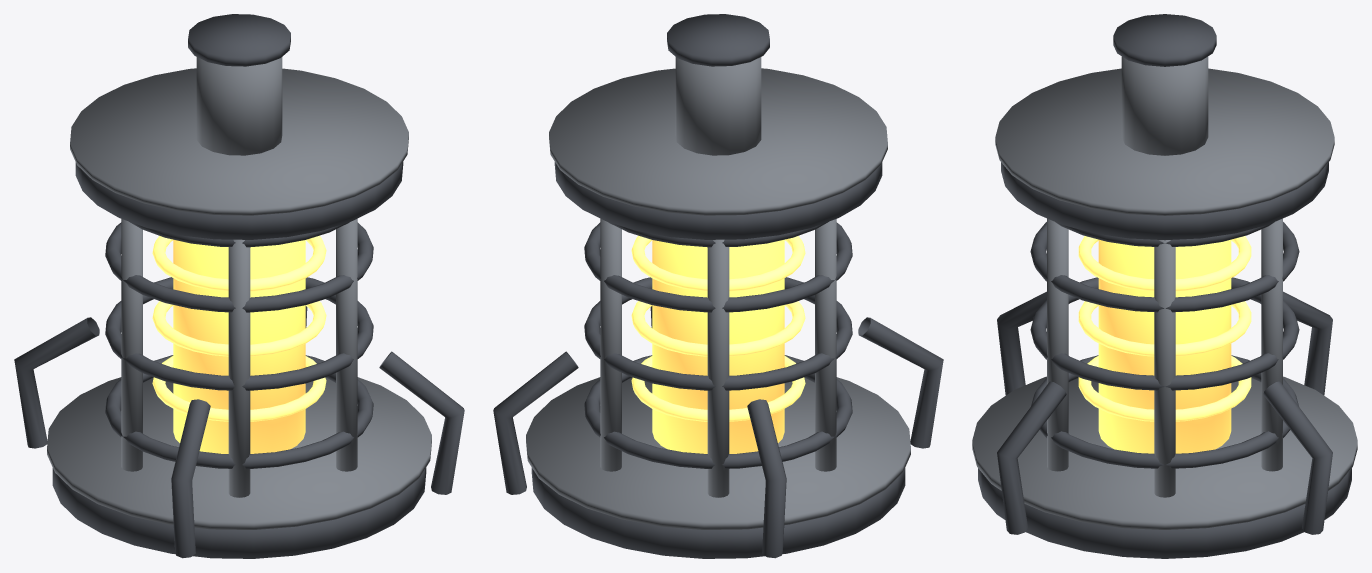
Rendered from reactor.glb.
The picture shows the model from 3 angles, left to right: view 1: azimuth 30°, elevation 25°; view 2: azimuth 150°, elevation 25°; view 3: azimuth 270°, elevation 25°; orthographic projection.
Visible parts, largest first — view 1: reactor; view 2: reactor; view 3: reactor.
Boxes of the visible parts, x1,y1,x2,y2 form: reactor: (14, 14, 464, 558); reactor: (493, 14, 943, 558); reactor: (972, 14, 1357, 558).
Size of the model in its own units: 2.68 by 3.4 by 2.68.
